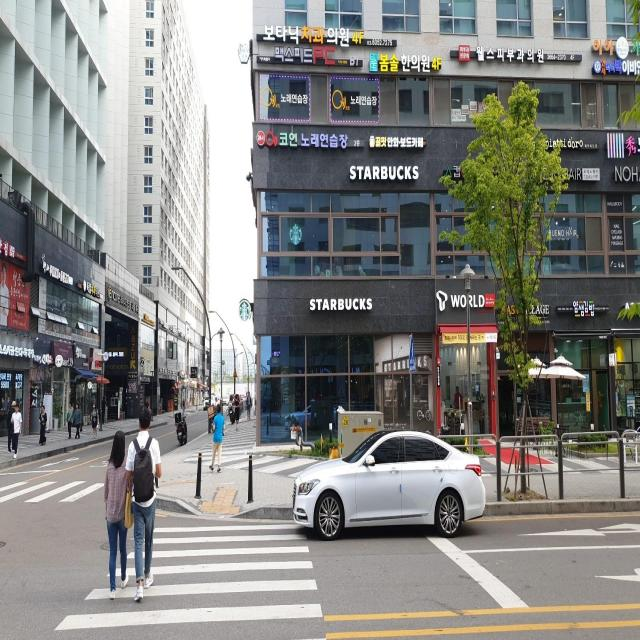횡단보도: (54, 523, 328, 640), (0, 481, 109, 506)
